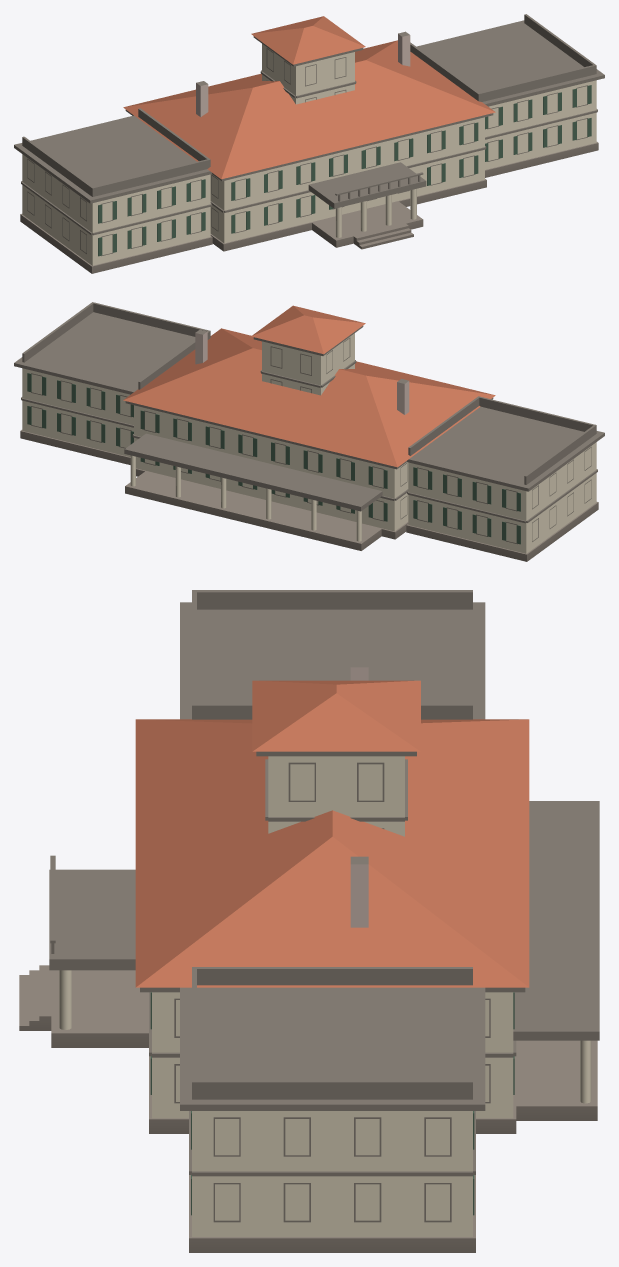
File: mansion_l3.glb
The picture shows the model from 3 angles, top to bottom: view 1: azimuth 30°, elevation 25°; view 2: azimuth 150°, elevation 25°; view 3: azimuth 270°, elevation 25°; orthographic projection. The views are drawn at different scales.
Parts seen in each view (by area): view 1: mansion_l3; view 2: mansion_l3; view 3: mansion_l3.
Part boxes in pixels (left/top/right/bottom): mansion_l3: left=14, top=14, right=604, bottom=273; mansion_l3: left=14, top=302, right=604, bottom=561; mansion_l3: left=19, top=590, right=599, bottom=1252.
Bounding box in the file's own units: 59.2 × 17.4 × 28.9.
